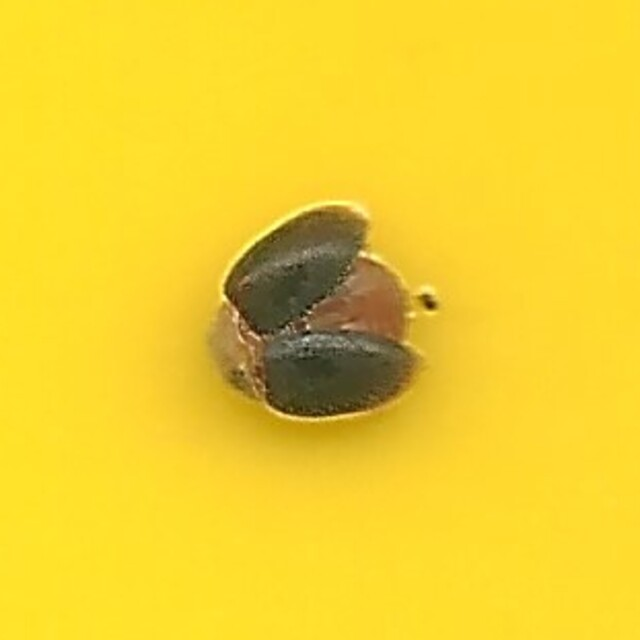Coleoptera: (206, 209, 434, 431)
